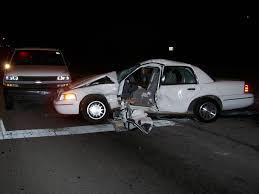bonnet-dent: (75, 73, 118, 88)
doorouter-dent: (124, 69, 155, 113), (166, 67, 193, 109)
roof-dent: (142, 57, 190, 69)
